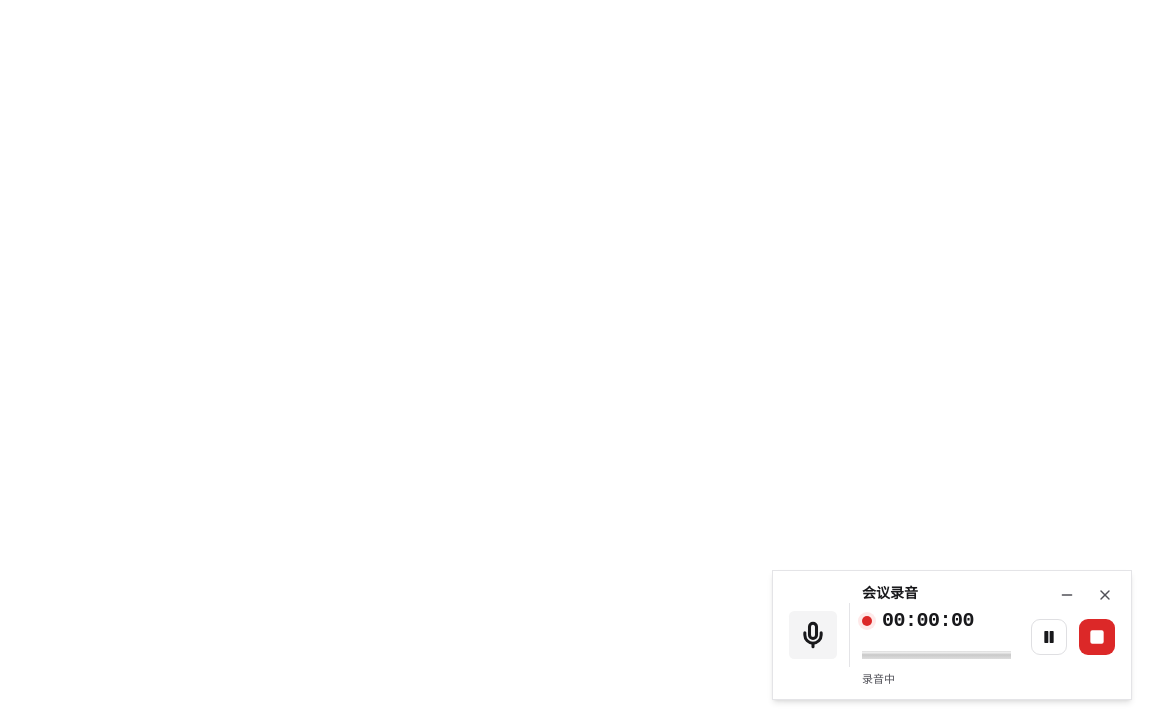
MeetingRecorderDock › keeps paused unchanged when cancelling end-and-save confirmation
The image size is (1152, 720).
Click the button named "暂停": [1049, 637] box 1031,619 -> 1067,655
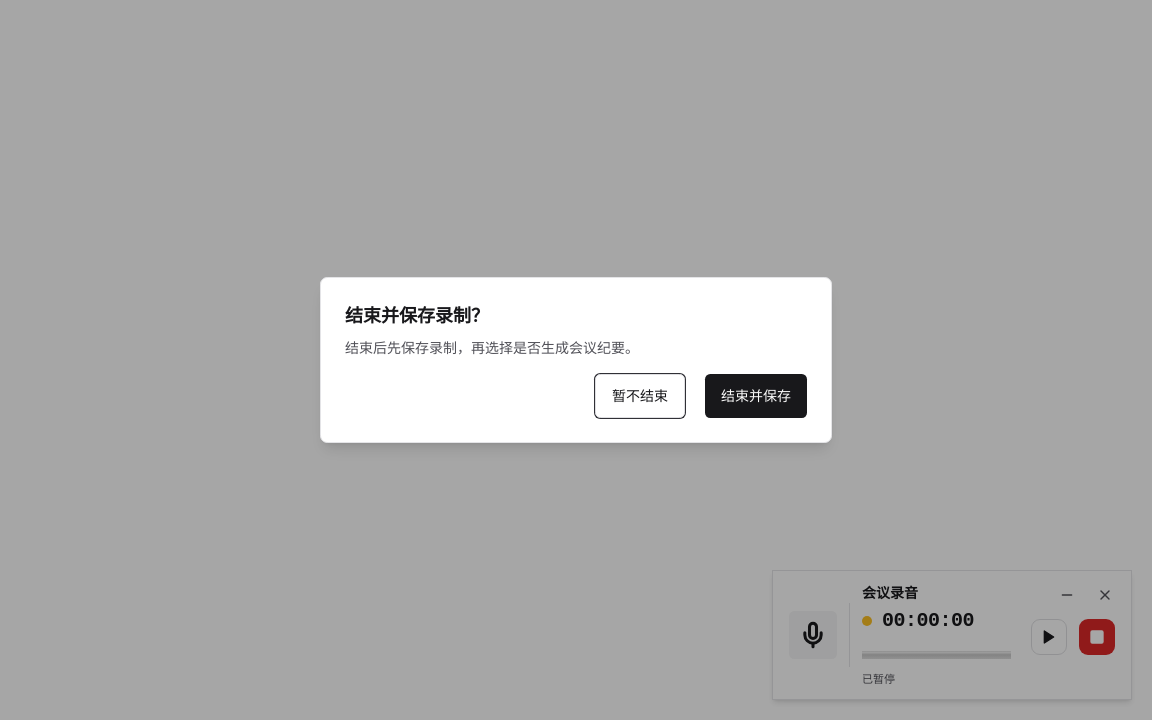
Now the dialog "结束并保存录制？" is shown, box 320,277 -> 832,443
Click the button "暂不结束": [640, 396] box 595,374 -> 685,418
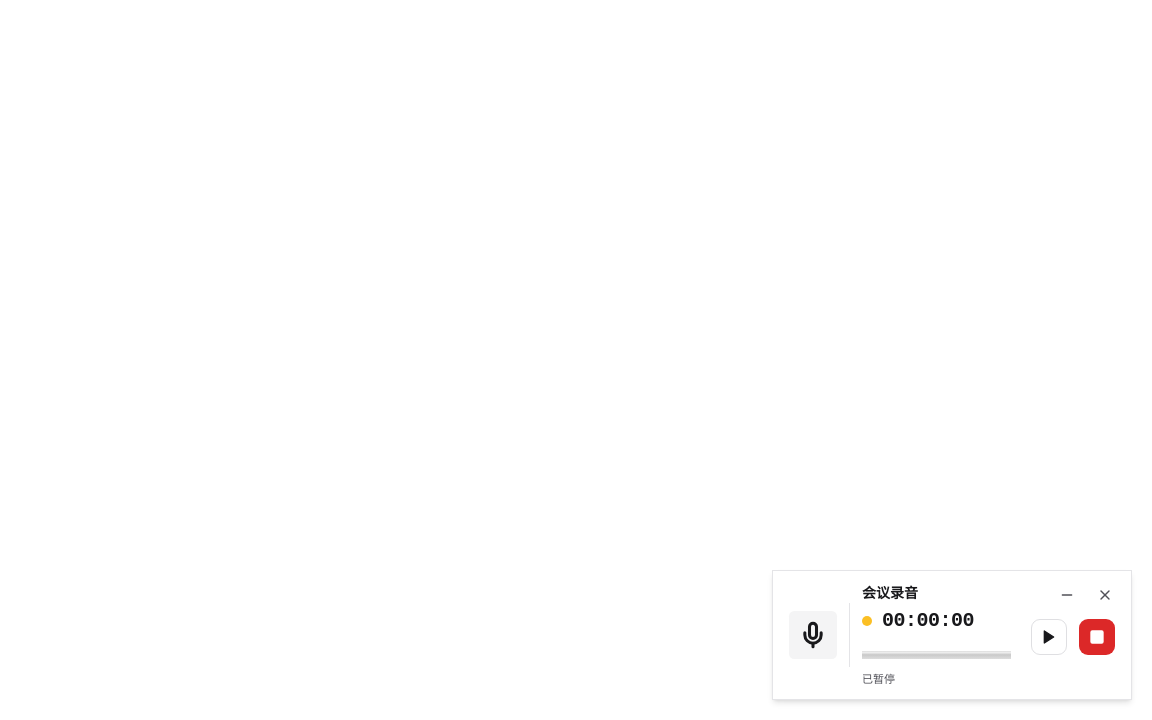
Now the dialog is gone
